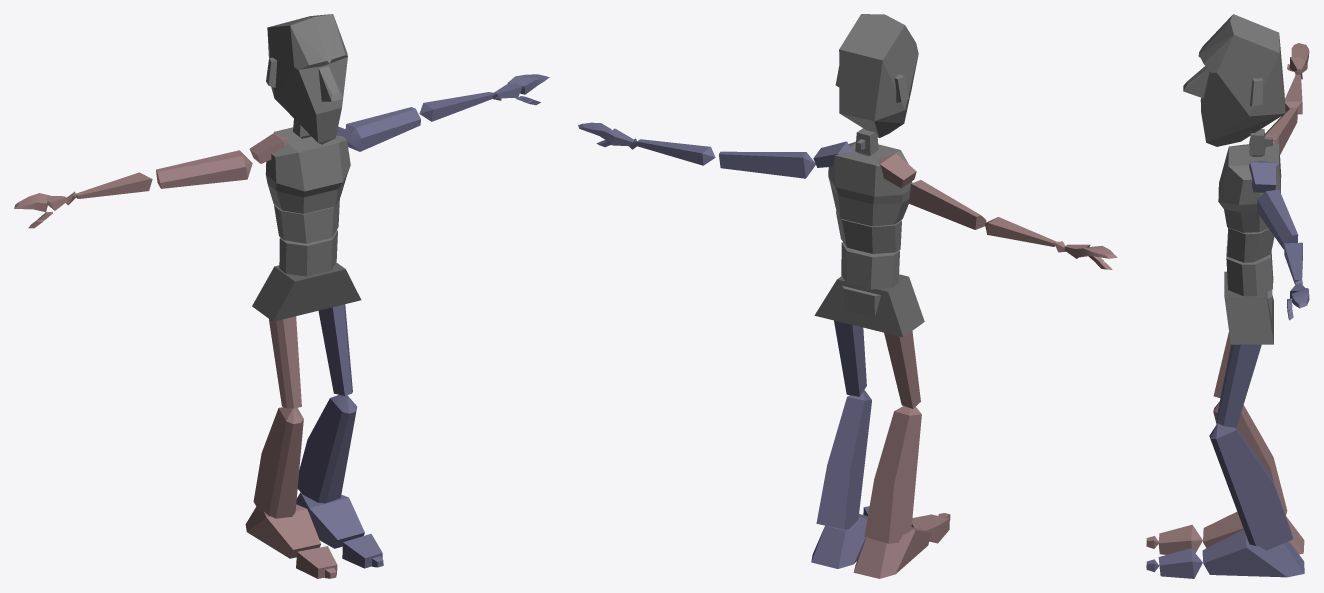
The model's file is LowPolyRIG.dae.
The picture shows the model from 3 angles, left to right: view 1: azimuth 30°, elevation 25°; view 2: azimuth 150°, elevation 25°; view 3: azimuth 270°, elevation 25°; orthographic projection.
Visible parts, largest first — view 1: LowPoly_27, LowPoly_11, LowPoly_6, LowPoly_7, Kycle_Ovl, LowPoly_4, LowPoly_24, LowPoly_8, LowPoly_5, LowPoly_9, LowPoly_28, LowPoly_10 (+5 smaller); view 2: LowPoly_27, LowPoly_7, LowPoly_11, LowPoly_6, Kycle_Ovl, LowPoly_4, LowPoly_28, LowPoly_13, LowPoly_5, LowPoly_9, LowPoly_8, LowPoly_10 (+6 smaller); view 3: LowPoly_27, LowPoly_6, LowPoly_11, LowPoly_5, Kycle_Ovl, LowPoly_9, LowPoly_28, LowPoly_13, LowPoly_10, LowPoly_7, LowPoly_4, LowPoly_1 (+10 smaller).
Part boxes in pixels (bbox=[...]): LowPoly_27: bbox=[266, 14, 347, 144]; LowPoly_11: bbox=[265, 127, 350, 213]; LowPoly_6: bbox=[297, 394, 357, 503]; LowPoly_7: bbox=[253, 407, 303, 518]; Kycle_Ovl: bbox=[252, 262, 361, 321]; LowPoly_4: bbox=[245, 504, 320, 558]; LowPoly_24: bbox=[156, 150, 252, 188]; LowPoly_8: bbox=[269, 316, 301, 408]; LowPoly_5: bbox=[296, 492, 364, 548]; LowPoly_9: bbox=[318, 304, 352, 395]; LowPoly_28: bbox=[279, 230, 337, 276]; LowPoly_10: bbox=[274, 198, 339, 243]; LowPoly_27: bbox=[835, 14, 918, 137]; LowPoly_7: bbox=[864, 406, 921, 543]; LowPoly_11: bbox=[828, 141, 912, 226]; LowPoly_6: bbox=[816, 390, 871, 529]; Kycle_Ovl: bbox=[814, 274, 924, 337]; LowPoly_4: bbox=[853, 527, 931, 578]; LowPoly_28: bbox=[841, 242, 899, 289]; LowPoly_13: bbox=[719, 151, 815, 178]; LowPoly_5: bbox=[811, 514, 867, 568]; LowPoly_9: bbox=[834, 320, 866, 396]; LowPoly_8: bbox=[884, 331, 920, 408]; LowPoly_10: bbox=[836, 210, 901, 253]; LowPoly_27: bbox=[1183, 14, 1285, 146]; LowPoly_6: bbox=[1209, 423, 1293, 550]; LowPoly_11: bbox=[1218, 144, 1281, 232]; LowPoly_5: bbox=[1202, 529, 1304, 577]; Kycle_Ovl: bbox=[1224, 271, 1273, 344]; LowPoly_9: bbox=[1216, 344, 1261, 427]; LowPoly_28: bbox=[1226, 246, 1273, 296]; LowPoly_13: bbox=[1257, 189, 1298, 249]; LowPoly_10: bbox=[1227, 227, 1274, 262]; LowPoly_7: bbox=[1213, 401, 1287, 515]; LowPoly_4: bbox=[1203, 512, 1304, 554]; LowPoly_1: bbox=[1158, 548, 1202, 578].
Bounding box in the file's own units: 6.06 × 5.73 × 1.57.
